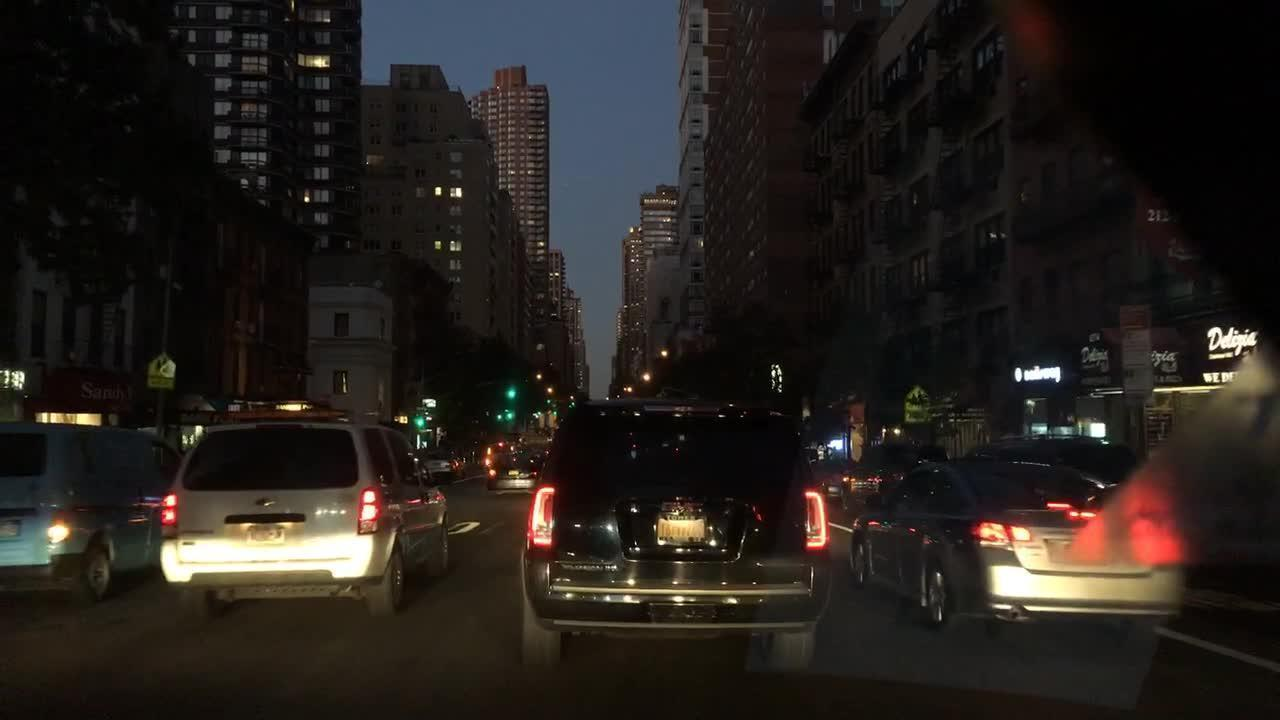chevrolet: (252, 493, 281, 511)
